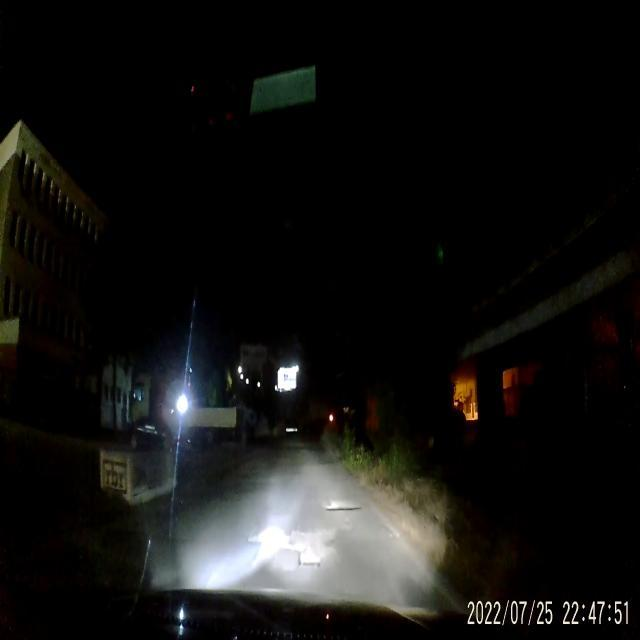Pothole: (284, 528, 336, 572), (249, 528, 282, 564), (326, 498, 362, 516)
